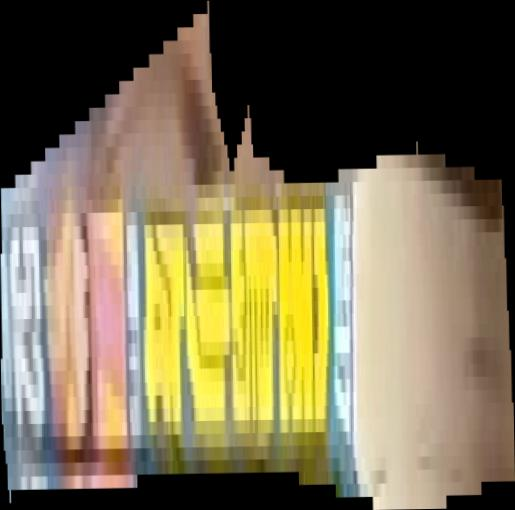flat: (1, 1, 515, 510)
